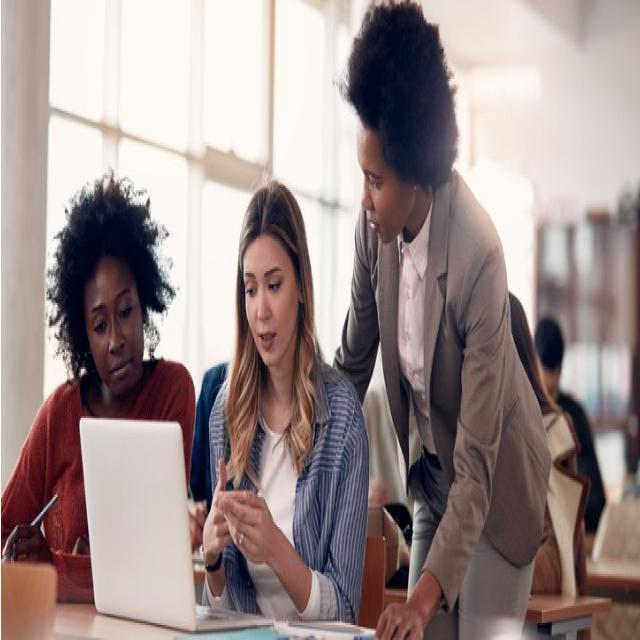adult: (332, 1, 548, 640), (0, 174, 195, 605), (200, 183, 370, 621)
